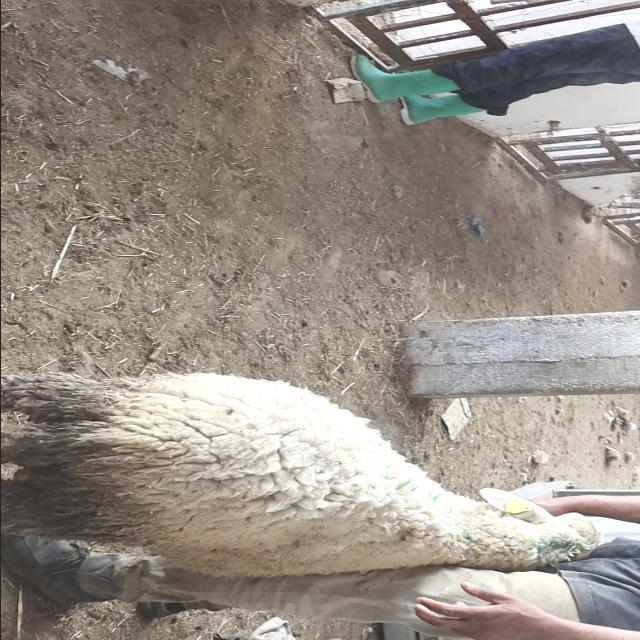Score_4: (1, 372, 601, 576)
